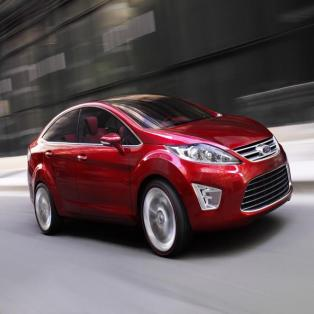Auto: (27, 93, 292, 259)
